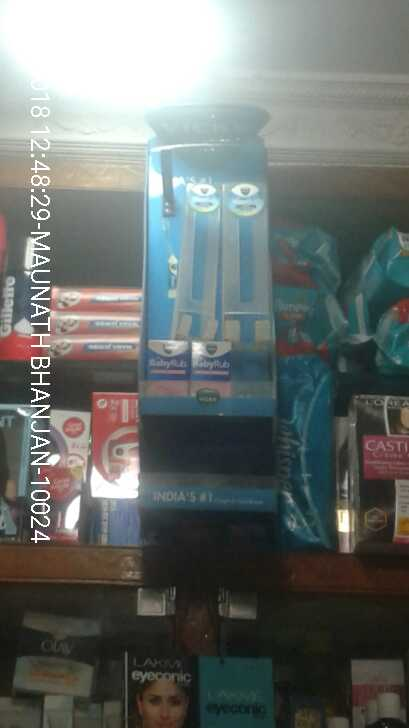vicks: (140, 338, 193, 395), (190, 329, 230, 398)
